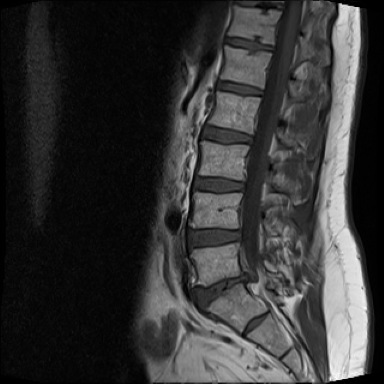Lumbar Disc Bulge (LDB): (188, 267, 258, 316)
Normal IVD: (198, 118, 260, 150), (182, 224, 250, 251), (192, 173, 250, 198), (211, 77, 270, 101), (223, 32, 278, 57)
Spinal Stenosis (SS): (239, 267, 260, 292)
